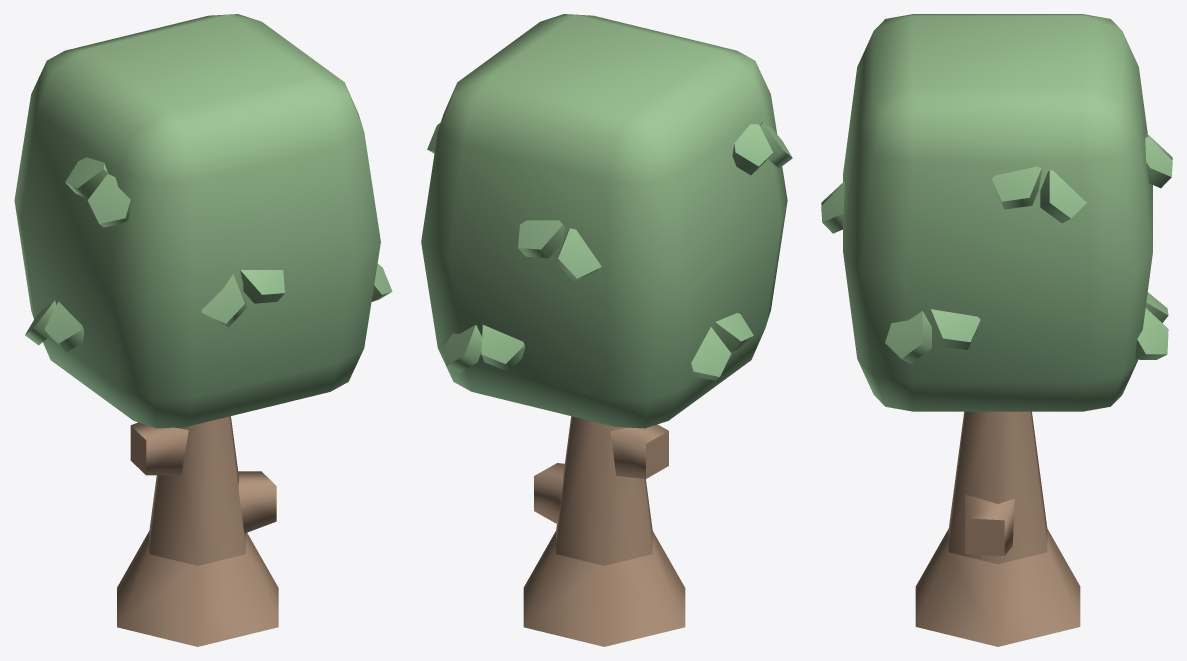
Rendered from fruit_tree.gltf.
3 views of the same model, side by side, from view 1: azimuth 30°, elevation 25°; view 2: azimuth 150°, elevation 25°; view 3: azimuth 270°, elevation 25° (orthographic).
Visible parts, largest first — view 1: fruit_tree; view 2: fruit_tree; view 3: fruit_tree.
Part boxes in pixels (x1,y1,x2,y2): fruit_tree: (14,14,392,646); fruit_tree: (421,14,792,646); fruit_tree: (821,14,1172,646).
Size of the model in its own units: 0.6767 by 1.2 by 0.689.
